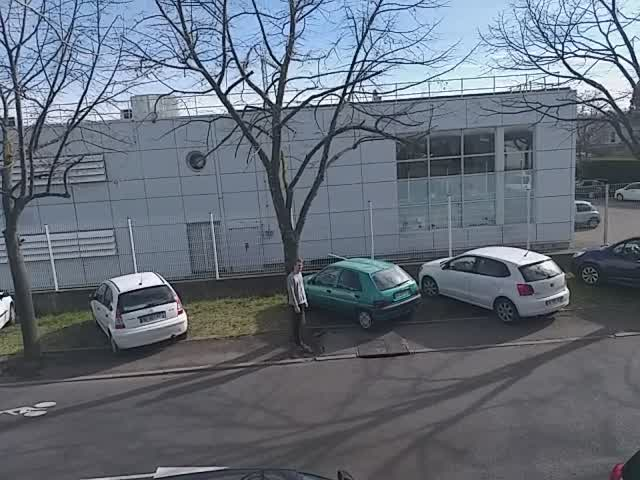persona: (279, 255, 314, 360)
